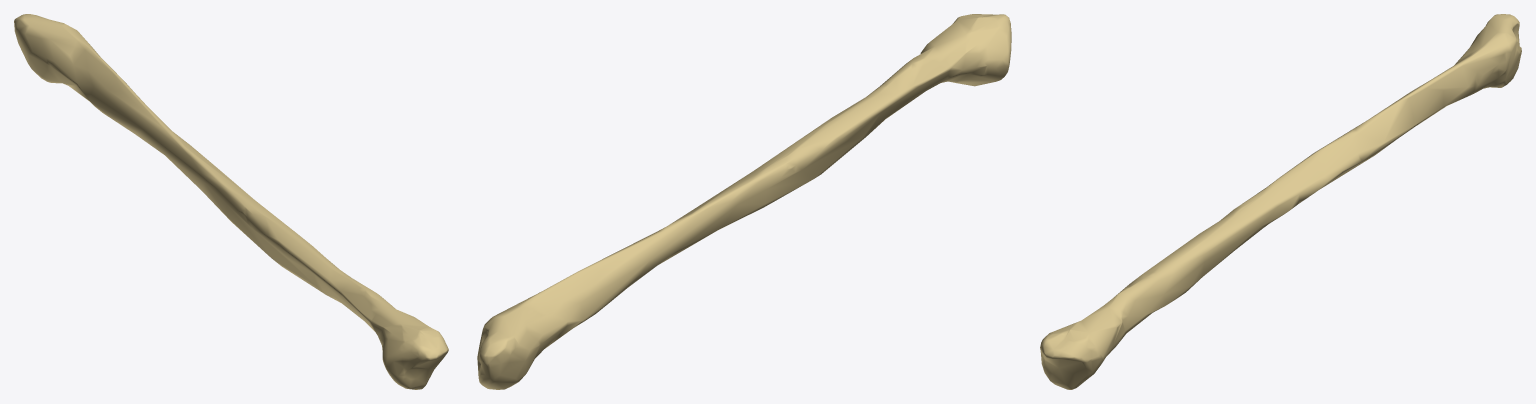
3 renders of one model, left to right at view 1: azimuth 30°, elevation 25°; view 2: azimuth 150°, elevation 25°; view 3: azimuth 330°, elevation 25°, orthographic. The views are drawn at different scales.
Parts seen in each view (by area): view 1: 右侧腓骨; view 2: 右侧腓骨; view 3: 右侧腓骨.
Part boxes in pixels (<box>): 右侧腓骨: <box>14,14,448,389</box>; 右侧腓骨: <box>477,14,1011,389</box>; 右侧腓骨: <box>1040,14,1521,389</box>.
Bounding box in the file's own units: 0.0534 × 0.0485 × 0.5341.
